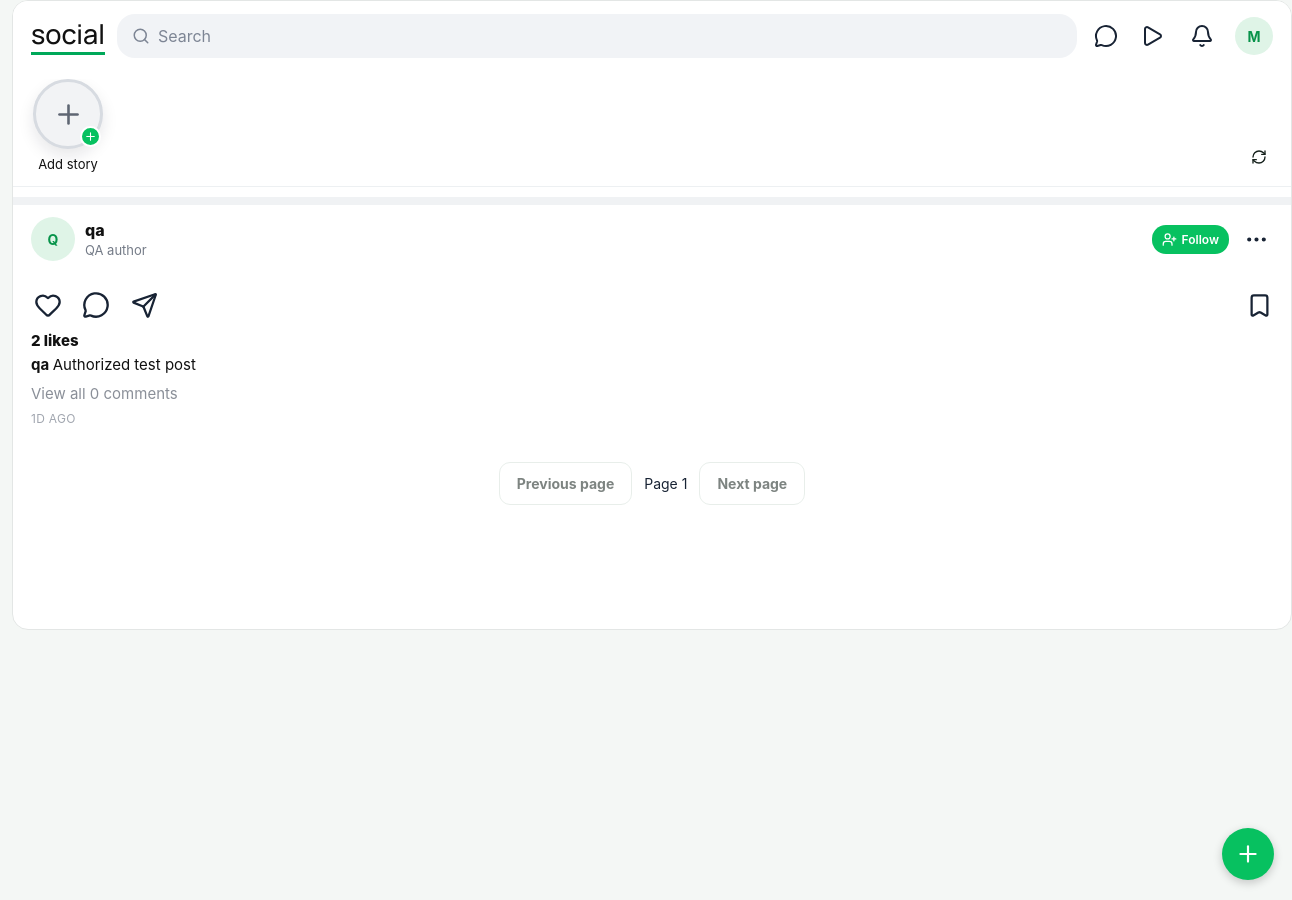
Scenario: Social preserves existing personal boundaries › does not report a successful like when its mutation fails
The image size is (1292, 900).
Click the button named "Like · 2" at (48, 305), box [31,285,65,325]
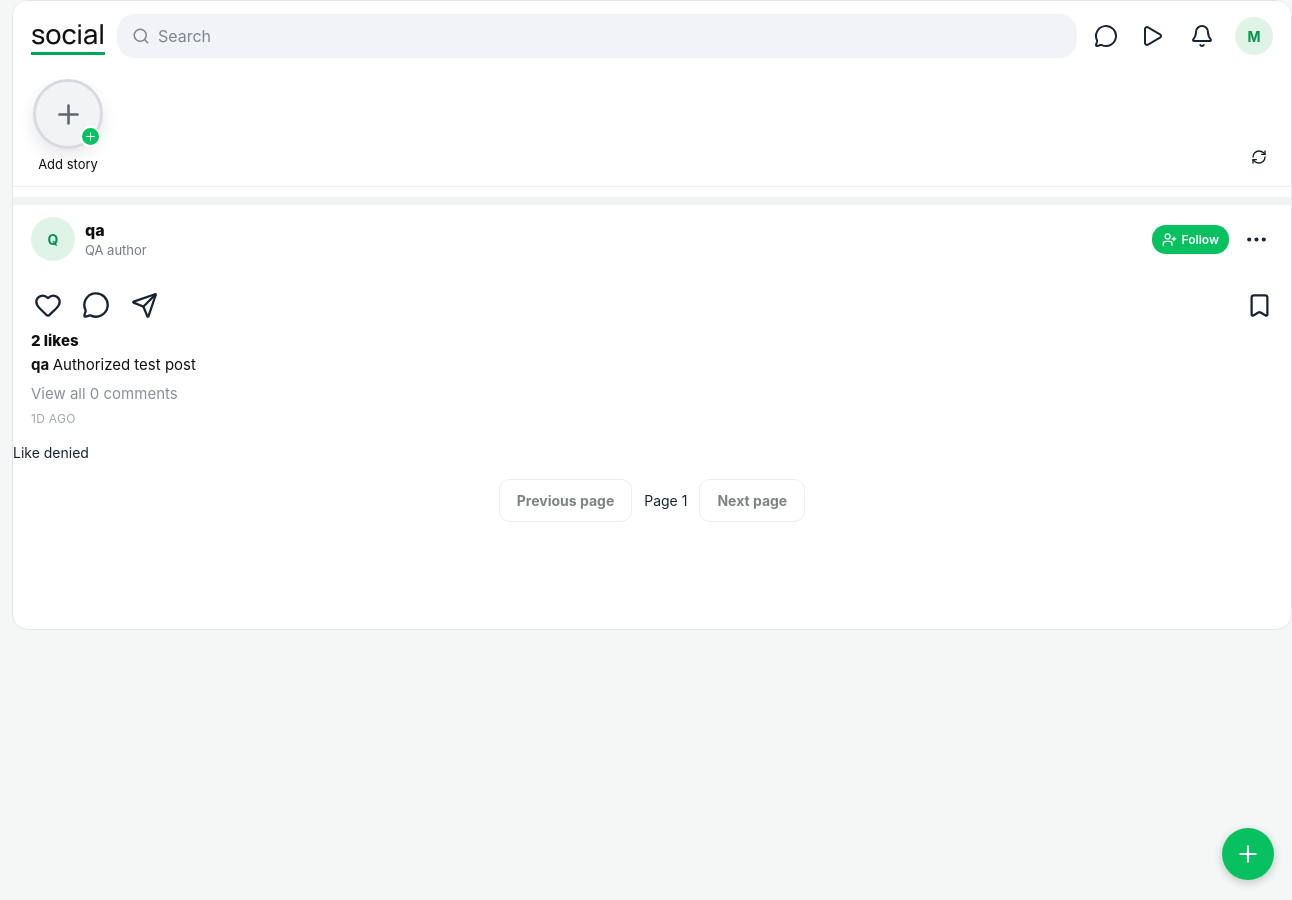
Expected: the text "Like denied" is shown, [13,444,89,461]
